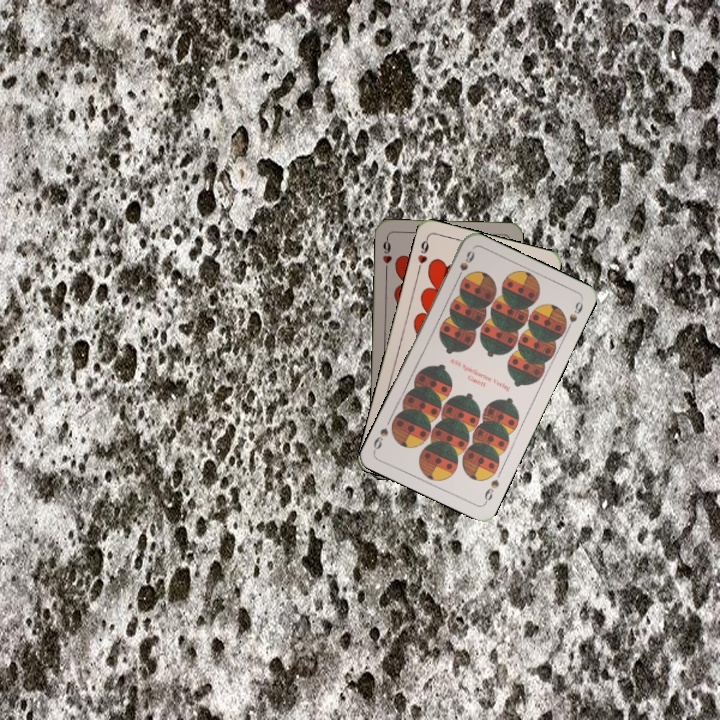H9: (414, 234, 431, 274), (378, 234, 394, 274)
S9: (452, 246, 477, 284), (480, 475, 502, 506)
